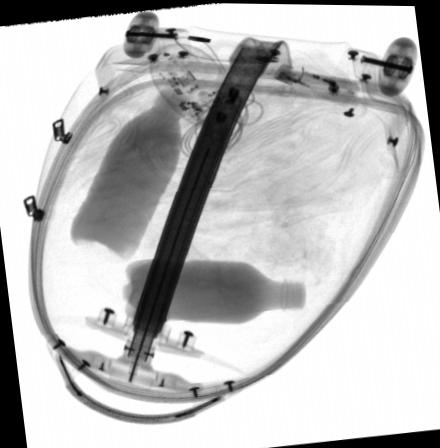Lighter: (272, 60, 353, 97)
